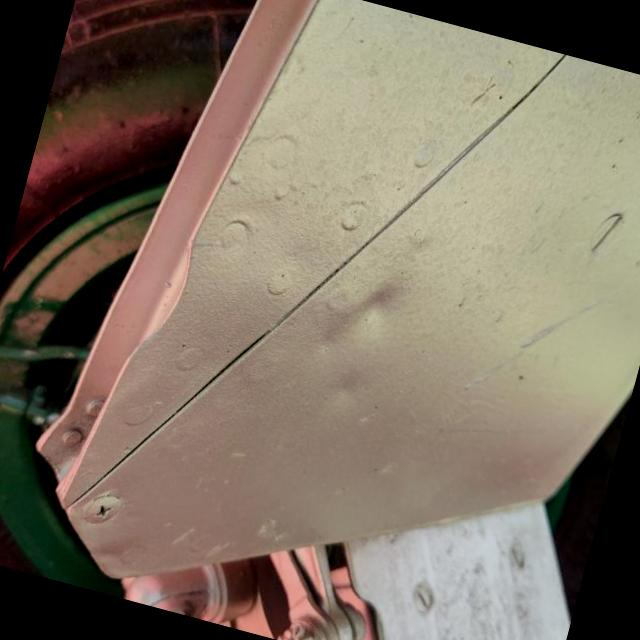dent: (296, 248, 421, 374), (129, 229, 222, 369)
